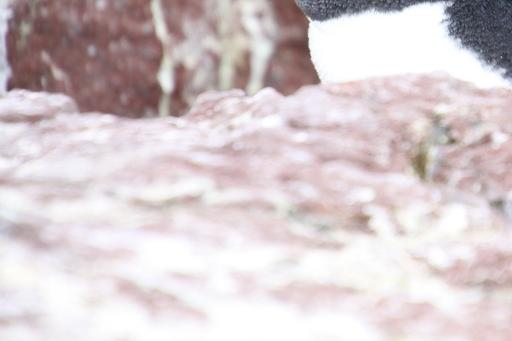Southern Rockhopper Penguin: (151, 0, 512, 112)
